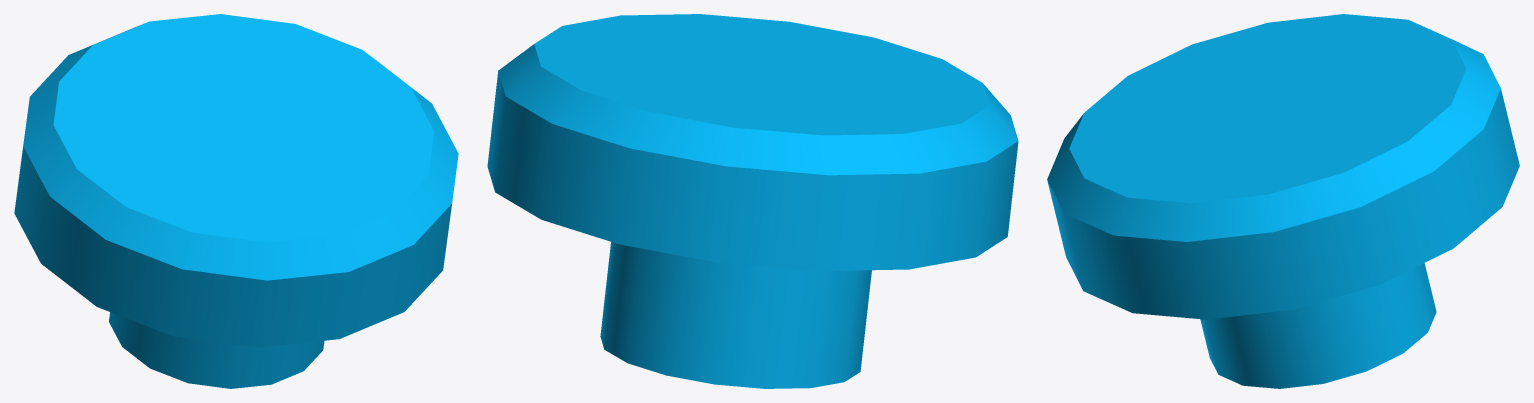
Rendered from blueButt.gltf.
The picture shows the model from 3 angles, left to right: view 1: azimuth 30°, elevation 25°; view 2: azimuth 150°, elevation 25°; view 3: azimuth 270°, elevation 25°; orthographic projection. The views are drawn at different scales.
Visible parts, largest first — view 1: blueButt; view 2: blueButt; view 3: blueButt.
Part boxes in pixels (x1,y1,x2,y2): blueButt: (14,14,458,388); blueButt: (487,14,1018,388); blueButt: (1047,14,1519,388).
Bounding box in the file's own units: 0.8 × 0.5486 × 0.8137.
